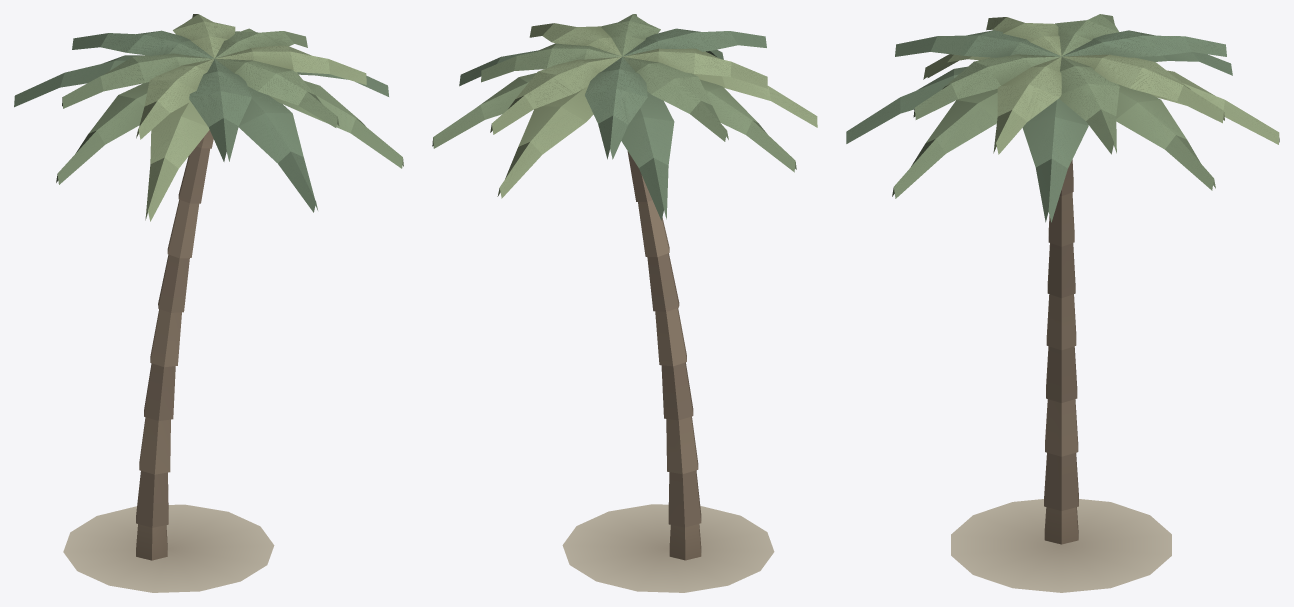
The model's file is palm_0.glb.
3 views of the same model, side by side, from view 1: azimuth 30°, elevation 25°; view 2: azimuth 150°, elevation 25°; view 3: azimuth 270°, elevation 25° (orthographic). The views are drawn at different scales.
Visible parts, largest first — view 1: palm_0; view 2: palm_0; view 3: palm_0.
Boxes of the visible parts, left/top/right/bottom form: palm_0: left=14, top=14, right=403, bottom=592; palm_0: left=432, top=14, right=817, bottom=592; palm_0: left=846, top=14, right=1279, bottom=592.
Bounding box in the file's own units: 5.8 × 8.41 × 6.12.
